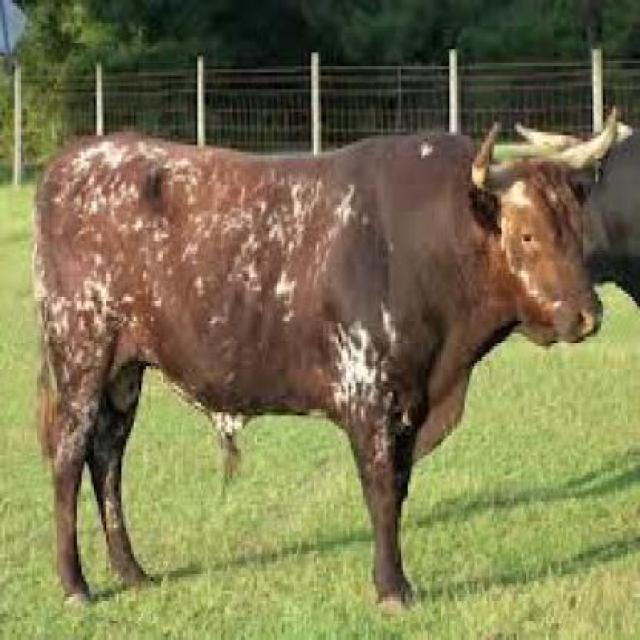Cow: (31, 88, 615, 626), (529, 103, 637, 308)
